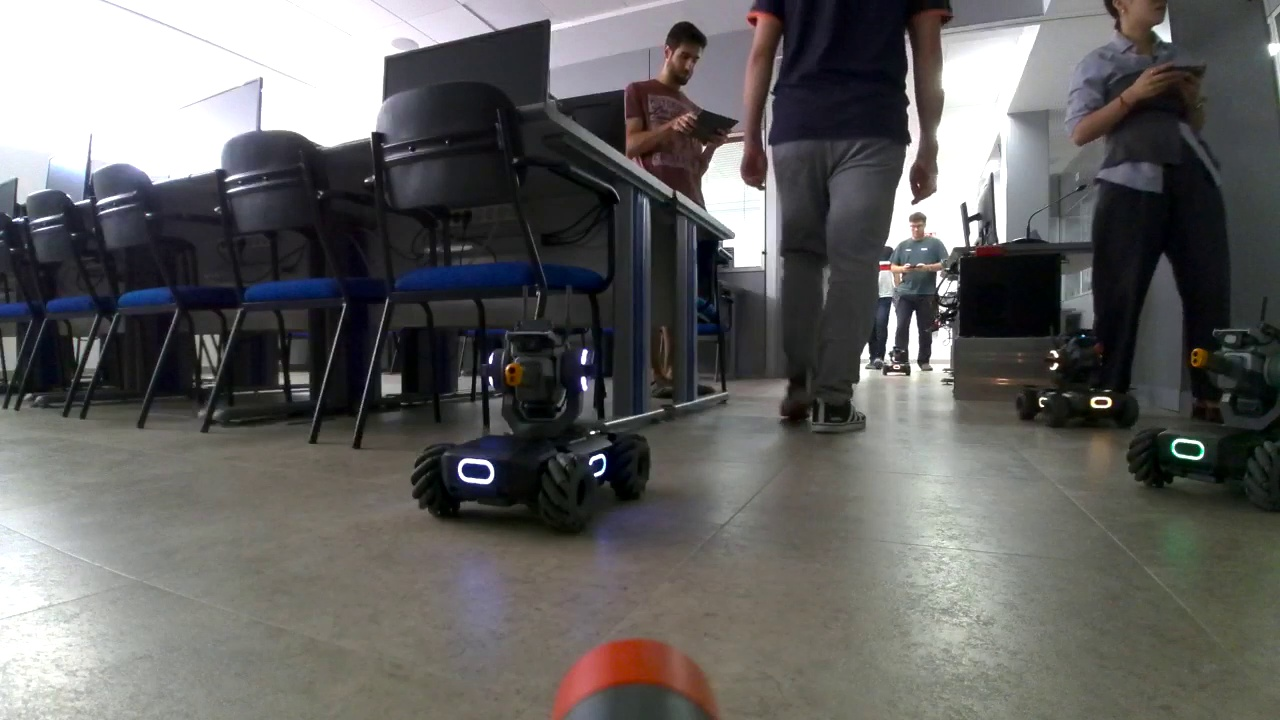robot: (408, 286, 652, 537), (1127, 297, 1280, 510), (1017, 321, 1140, 430), (881, 343, 912, 377)
